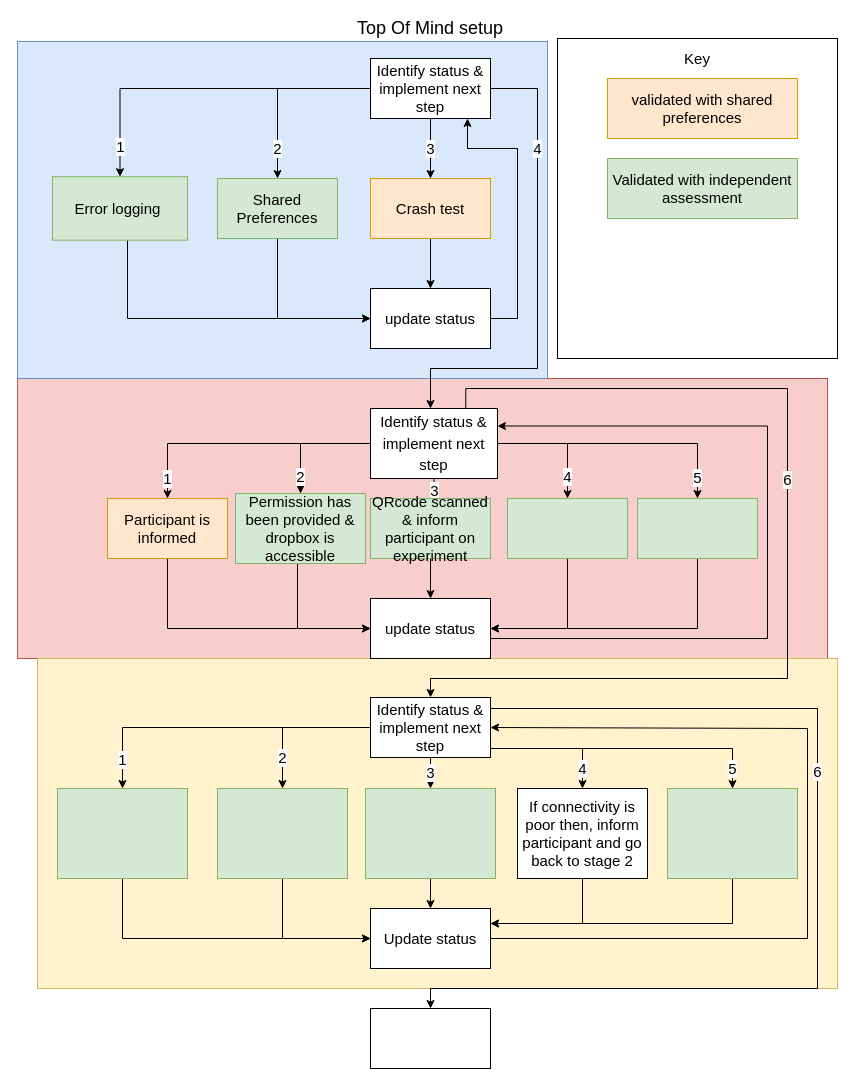
Some shapes in this 855 by 1086 pixel diagram are drawn without their labels. Here are the shapes that lost their labels. From the top down, the centre of each, then its label:
At [567,528]: "USB detected".
At [697,528]: "EEG detected".
At [122,833]: "Retrieve instructions class from gson input from website".
At [282,833]: "Conduct impedance test".
At [430,833]: "Review results from impedance test".
At [732,833]: "Once appropriate trial conducted then document result on dropbox".
At [430,1038]: "Start data collection".
